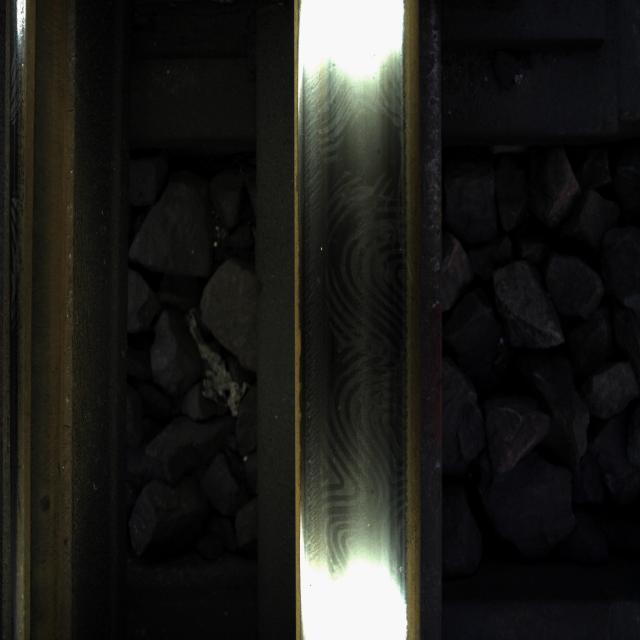break: (296, 46, 409, 585)
